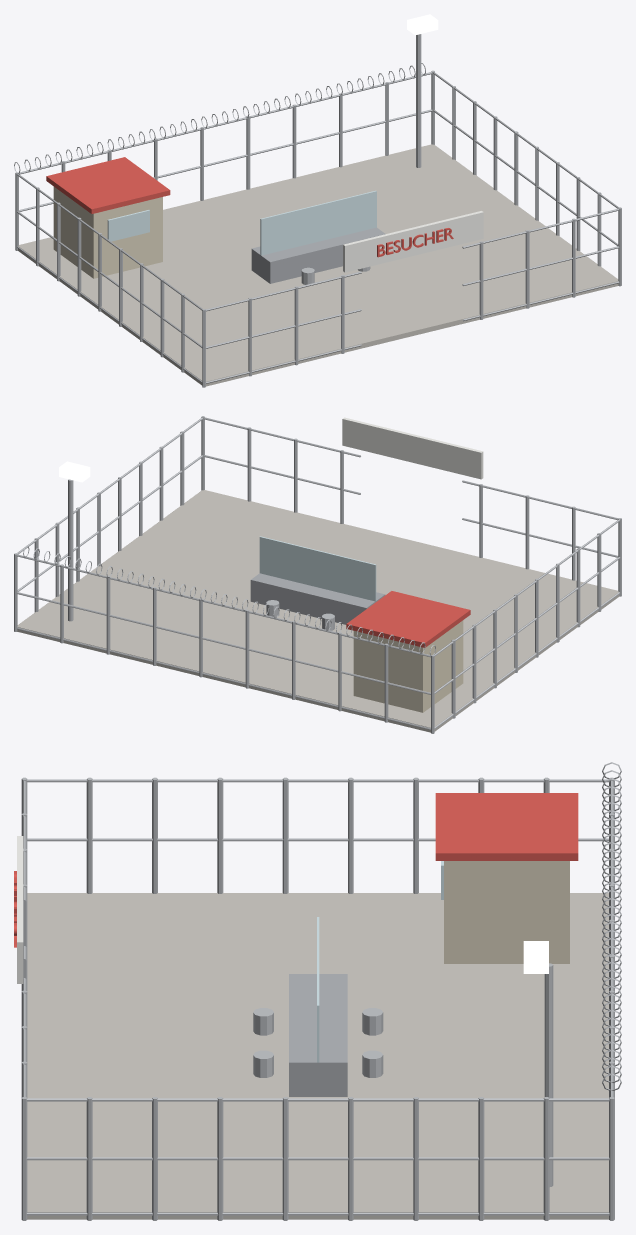
Rendered from visitor.glb.
3 renders of one model, top to bottom at view 1: azimuth 30°, elevation 25°; view 2: azimuth 150°, elevation 25°; view 3: azimuth 270°, elevation 25°, orthographic. The views are drawn at different scales.
Parts seen in each view (by area): view 1: Cube, Cube.001, Trennscheibe, Cube.002, Cube.004, Tisch, Cylinder.040, Cube.003, Cylinder.039, Cylinder.057, Text, Cylinder.046 (+3 smaller); view 2: Cube, Cube.001, Trennscheibe, Cube.002, Cube.004, Tisch, Cylinder.039, Cylinder.040, Cylinder.038, Cylinder.057, Cylinder.043, Cylinder.042 (+4 smaller); view 3: Cube, Cube.001, Cube.002, Tisch, Cylinder.045, Cylinder.046, Cylinder.044, Cylinder.043, Cylinder.057, Cylinder.042, Cylinder.040, Cube.004 (+17 smaller).
Boxes of the visible parts, <box> form: Cube: <box>18,144,618,386</box>; Cube.001: <box>53,186,162,278</box>; Trennscheibe: <box>260,190,376,255</box>; Cube.002: <box>46,157,170,213</box>; Cube.004: <box>343,211,483,272</box>; Tisch: <box>251,227,385,283</box>; Cylinder.040: <box>19,72,432,174</box>; Cube.003: <box>107,210,149,241</box>; Cylinder.039: <box>19,109,432,211</box>; Cylinder.057: <box>416,34,421,167</box>; Text: <box>377,228,453,257</box>; Cylinder.046: <box>433,72,618,208</box>; Cube: <box>17,490,619,732</box>; Cube.001: <box>353,620,463,712</box>; Trennscheibe: <box>259,536,376,601</box>; Cube.002: <box>346,591,470,647</box>; Cube.004: <box>342,417,483,479</box>; Tisch: <box>250,573,385,624</box>; Cylinder.039: <box>16,592,430,694</box>; Cylinder.040: <box>16,554,430,657</box>; Cylinder.038: <box>17,627,430,729</box>; Cylinder.057: <box>68,479,73,621</box>; Cylinder.043: <box>434,519,620,656</box>; Cylinder.042: <box>434,557,620,693</box>; Cube: <box>27,893,608,1219</box>; Cube.001: <box>444,861,569,963</box>; Cube.002: <box>435,793,578,860</box>; Tisch: <box>289,974,347,1096</box>; Cylinder.045: <box>26,1157,609,1160</box>; Cylinder.046: <box>26,1098,609,1101</box>; Cylinder.044: <box>26,1212,609,1215</box>; Cylinder.043: <box>26,779,609,782</box>; Cylinder.057: <box>544,963,553,1186</box>; Cylinder.042: <box>27,838,608,841</box>; Cylinder.040: <box>610,780,613,1096</box>; Cube.004: <box>17,836,23,983</box>.
Bounding box in the file's own units: 18.12 × 6.4 × 14.49.
